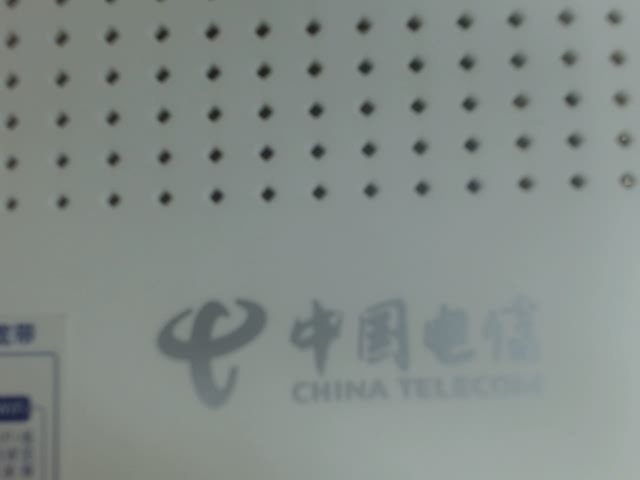AB_ChinaTelecom: (156, 271, 579, 424)
